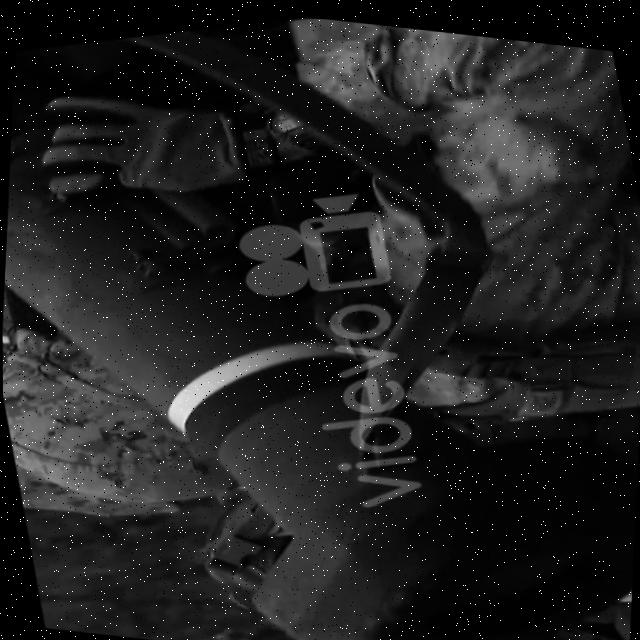rocket: (0, 70, 640, 640)
